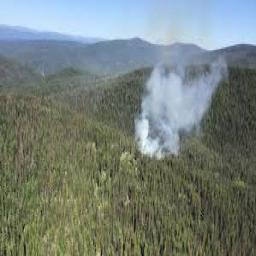Low smoke: (131, 59, 224, 161)
